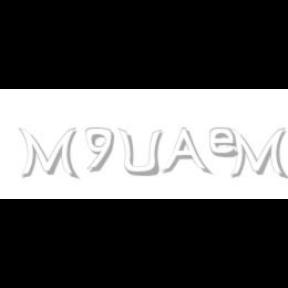9: (86, 128, 114, 172)
A: (161, 128, 209, 176)
M: (18, 128, 78, 180), (228, 128, 286, 180)
U: (118, 128, 162, 178)
e: (210, 128, 242, 158)
